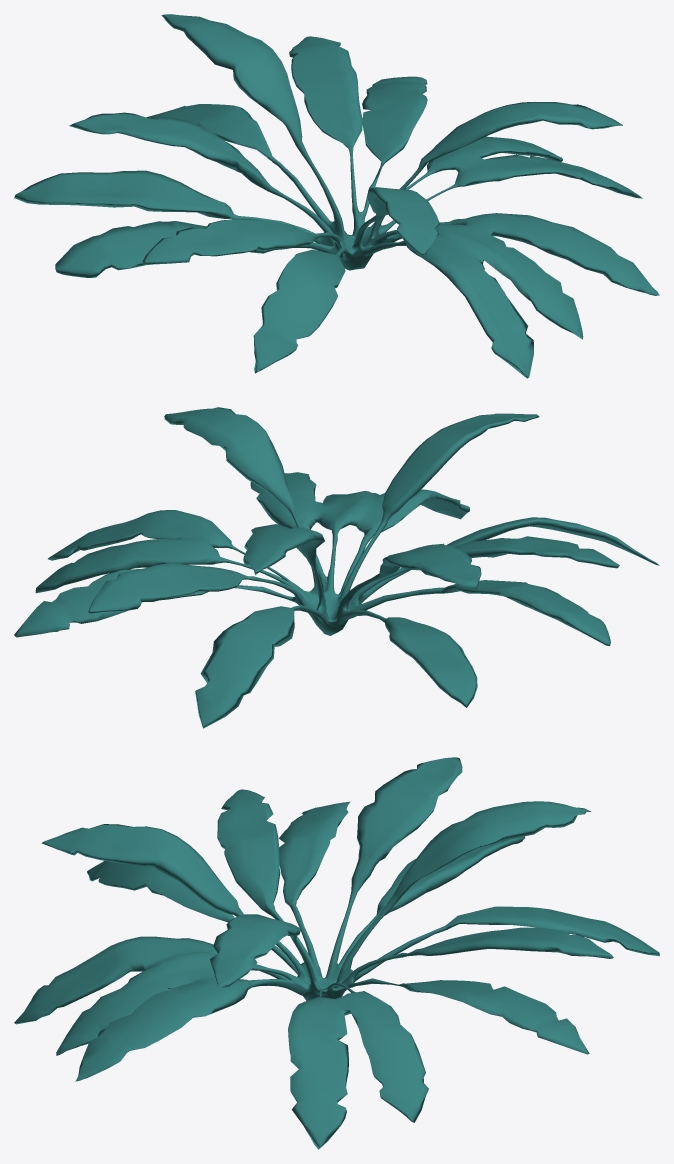
Rendered from sm_alienPlant_02.fbx.
The picture shows the model from 3 angles, top to bottom: view 1: azimuth 30°, elevation 25°; view 2: azimuth 150°, elevation 25°; view 3: azimuth 270°, elevation 25°; orthographic projection.
Visible parts, largest first — view 1: sm_alienPlant_02; view 2: sm_alienPlant_02; view 3: sm_alienPlant_02.
Boxes of the visible parts, x1,y1,x2,y2 form: sm_alienPlant_02: (14,14,659,378); sm_alienPlant_02: (14,407,659,728); sm_alienPlant_02: (14,757,659,1149).
Bounding box in the file's own units: 177 × 53.29 × 170.
